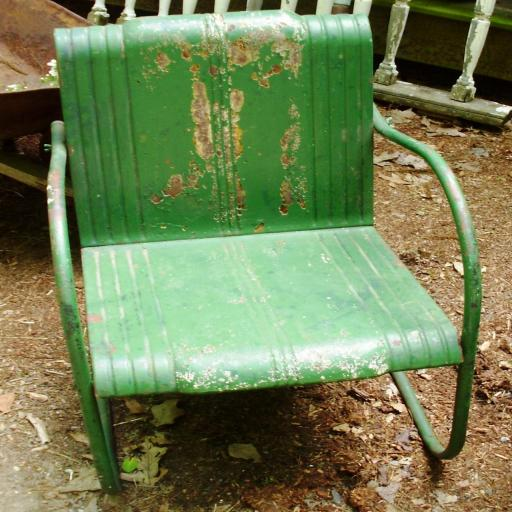segmentation: (140, 15, 302, 228), (281, 103, 299, 169)
